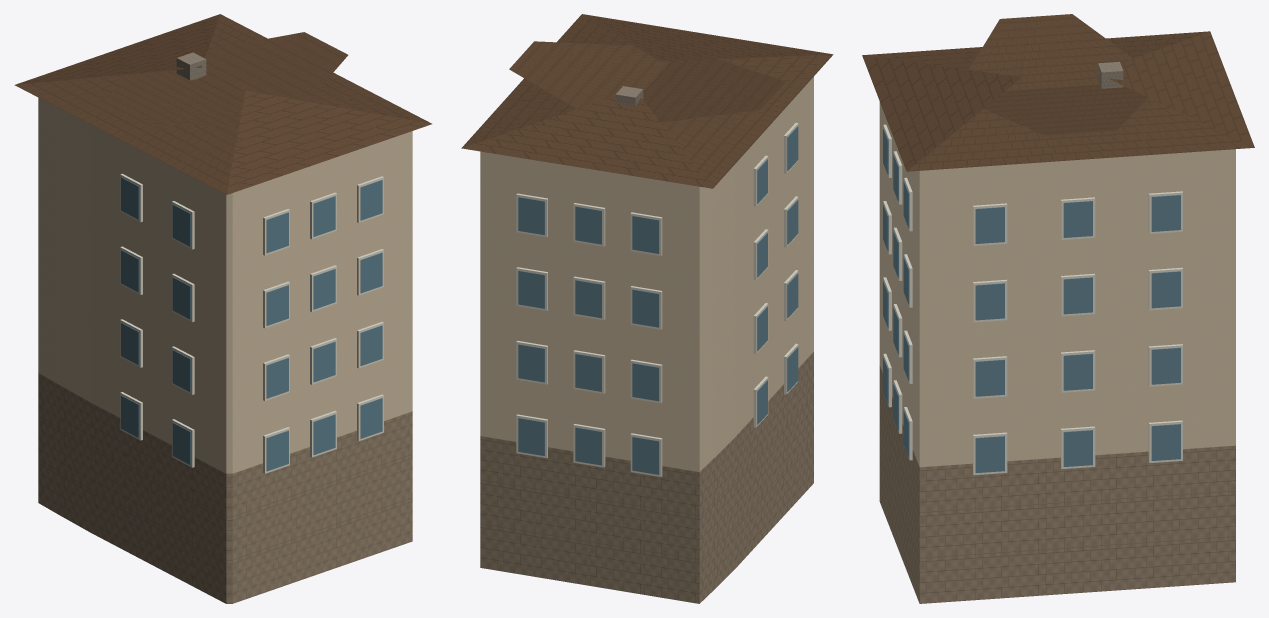
The model's file is core_0073.gltf.
The picture shows the model from 3 angles, left to right: view 1: azimuth 30°, elevation 25°; view 2: azimuth 150°, elevation 25°; view 3: azimuth 270°, elevation 25°; orthographic projection. The views are drawn at different scales.
Visible parts, largest first — view 1: core_0073; view 2: core_0073; view 3: core_0073.
Boxes of the visible parts, x1,y1,x2,y2 form: core_0073: [14, 14, 431, 603]; core_0073: [461, 14, 833, 603]; core_0073: [862, 14, 1254, 603].
Size of the model in its own units: 11.23 by 17.55 by 13.29.
Materials: 6 (6 with a texture image).
